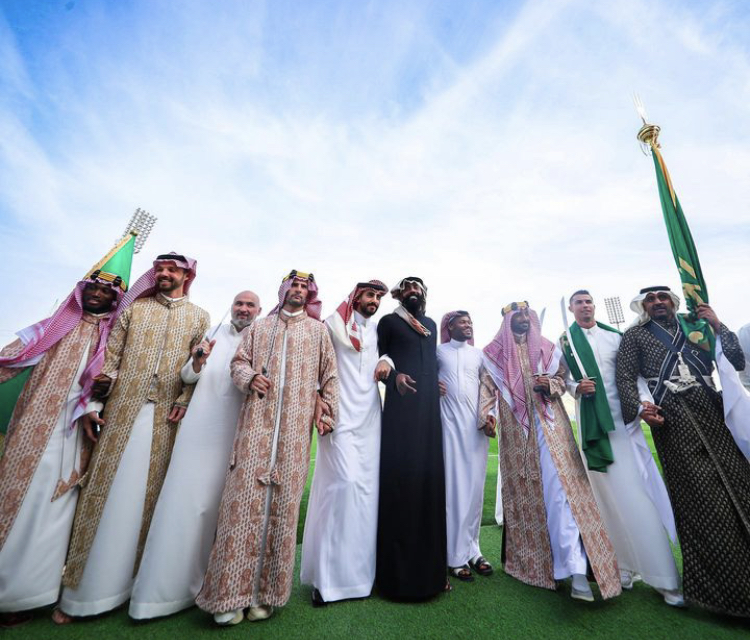Saudi_Founding_Day: (195, 266, 342, 628), (1, 267, 135, 622), (475, 299, 629, 607)
